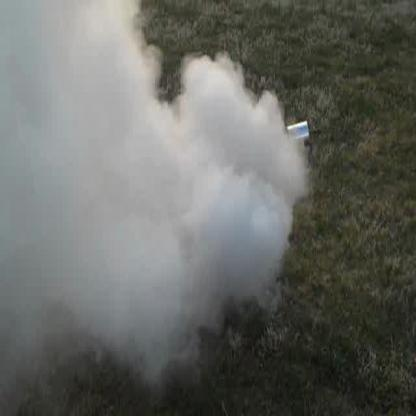Smoke: (7, 67, 294, 335)
